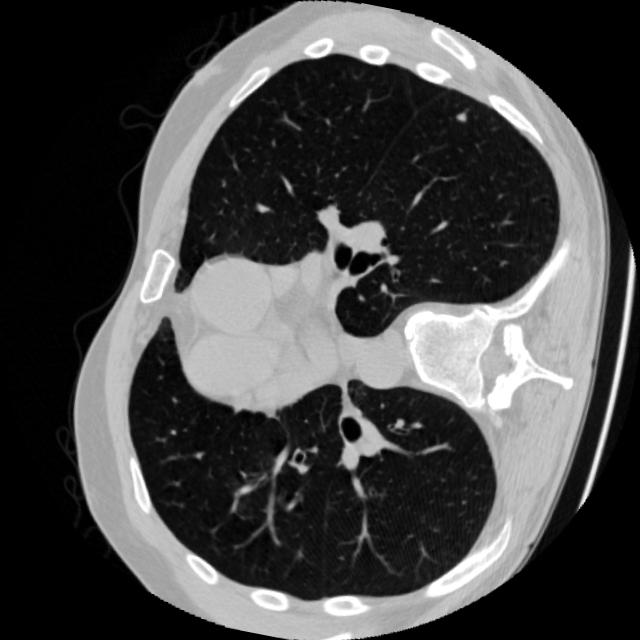nodule: (446, 100, 476, 128)
